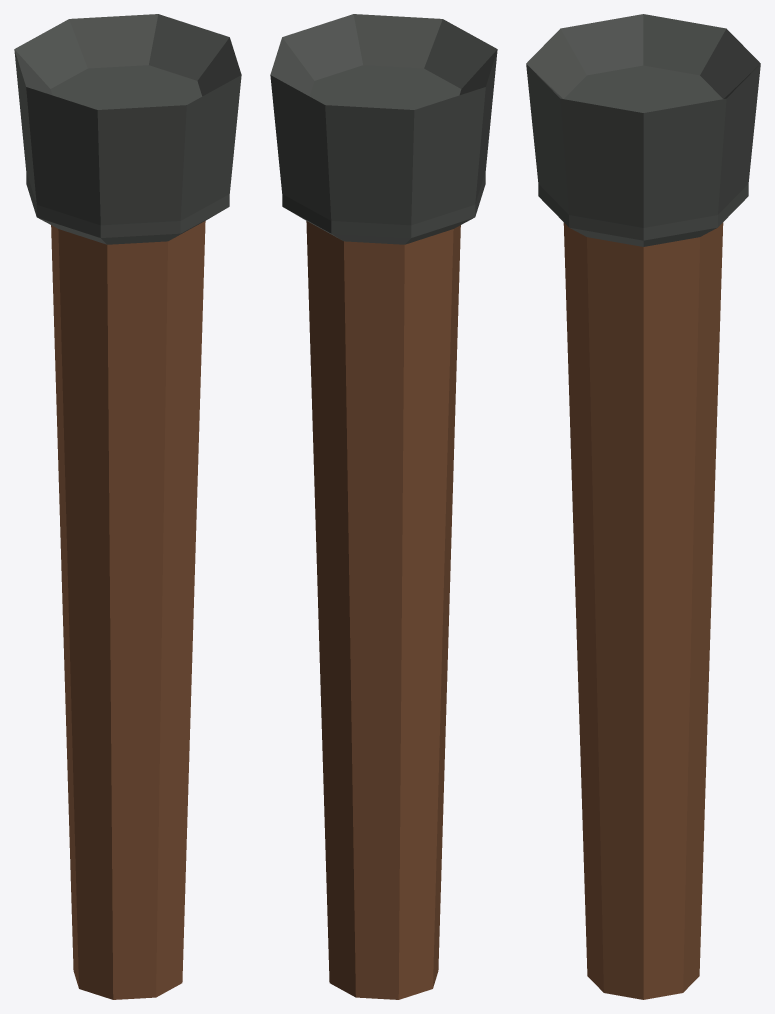
Rendered from antorcha 2.fbx.
3 renders of one model, left to right at view 1: azimuth 30°, elevation 25°; view 2: azimuth 150°, elevation 25°; view 3: azimuth 270°, elevation 25°, orthographic.
Parts seen in each view (by area): view 1: antorcha_1; view 2: antorcha_1; view 3: antorcha_1.
Part boxes in pixels (x1,y1,x2,y2): antorcha_1: (14,14,241,999); antorcha_1: (270,14,497,999); antorcha_1: (526,14,760,999).
Bounding box in the file's own units: 2.66 × 11.41 × 2.66.
